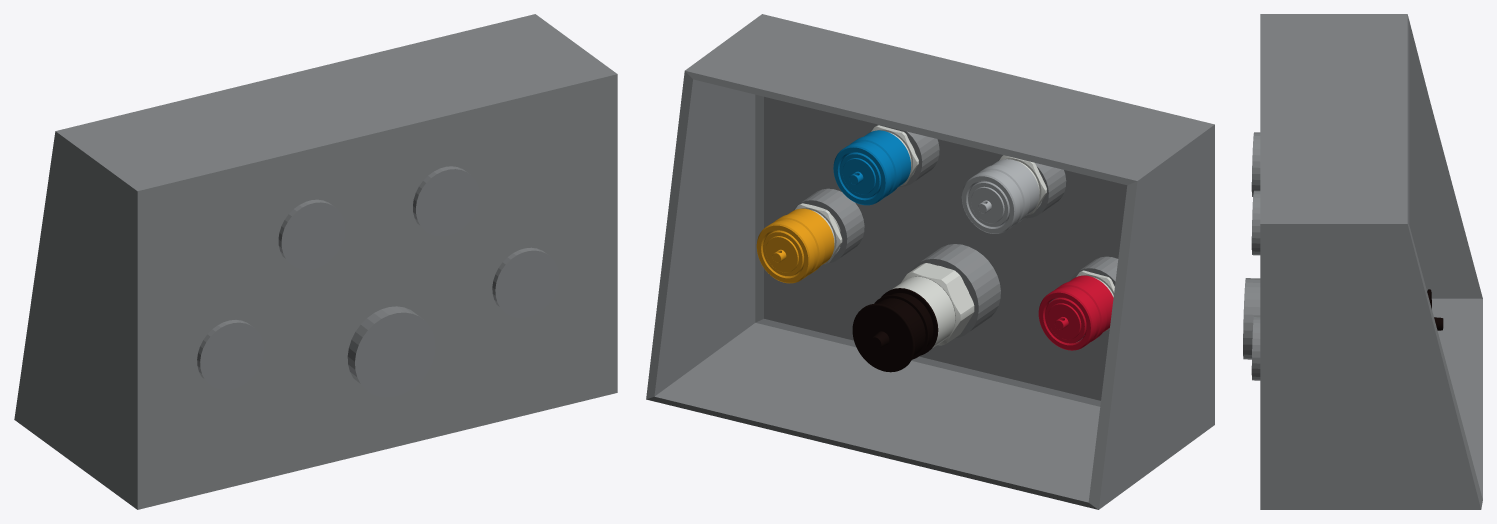
3 views of the same model, side by side, from view 1: azimuth 30°, elevation 25°; view 2: azimuth 150°, elevation 25°; view 3: azimuth 270°, elevation 25° (orthographic). The views are drawn at different scales.
Parts seen in each view (by area): view 1: Cube, Cylinder, Cylinder.004, Cylinder.002, Cylinder.003, Cylinder.001; view 2: Cube, R150Sc-A defeatured STEP, Cylinder, ccnu-m-1.003, ccnu-m-1.002, ccnu-m-1.001, ccnu-m-1, Cylinder.002, Cylinder.003, Cylinder.004, ccnu-m-7.001, ccnu-m-001 (+2 smaller); view 3: Cube, Cylinder, Cylinder.003, Cylinder.002, Cylinder.004.
Part boxes in pixels (x1,y1,x2,y2): Cube: (14, 14, 617, 509); Cylinder: (347, 306, 435, 397); Cylinder.004: (278, 199, 345, 269); Cylinder.002: (492, 247, 559, 317); Cylinder.003: (413, 166, 479, 236); Cylinder.001: (197, 320, 263, 389); Cube: (646, 14, 1214, 509); R150Sc-A defeatured STEP: (852, 263, 974, 372); Cylinder: (910, 244, 1000, 338); ccnu-m-1.003: (756, 208, 834, 283); ccnu-m-1.002: (833, 130, 910, 205); ccnu-m-1.001: (961, 159, 1039, 233); ccnu-m-1: (1038, 275, 1113, 350); Cylinder.002: (793, 188, 864, 263); Cylinder.003: (868, 124, 939, 186); Cylinder.004: (997, 159, 1066, 218); ccnu-m-7.001: (971, 186, 1004, 223); ccnu-m-001: (1048, 303, 1081, 339); Cube: (1260, 14, 1482, 509); Cylinder: (1243, 278, 1260, 359); Cylinder.003: (1251, 190, 1260, 255); Cylinder.002: (1251, 316, 1260, 380); Cylinder.004: (1251, 132, 1260, 196).
Size of the model in its own units: 0.4546 by 0.2883 by 0.2194.
